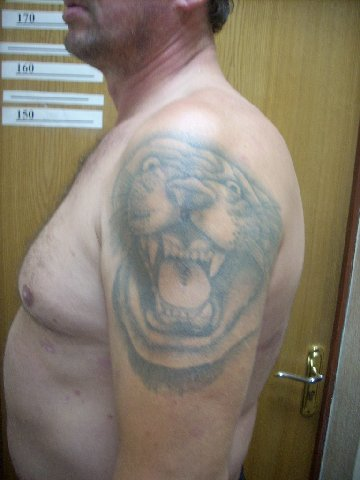tatu5_tigr: (104, 125, 280, 398)
